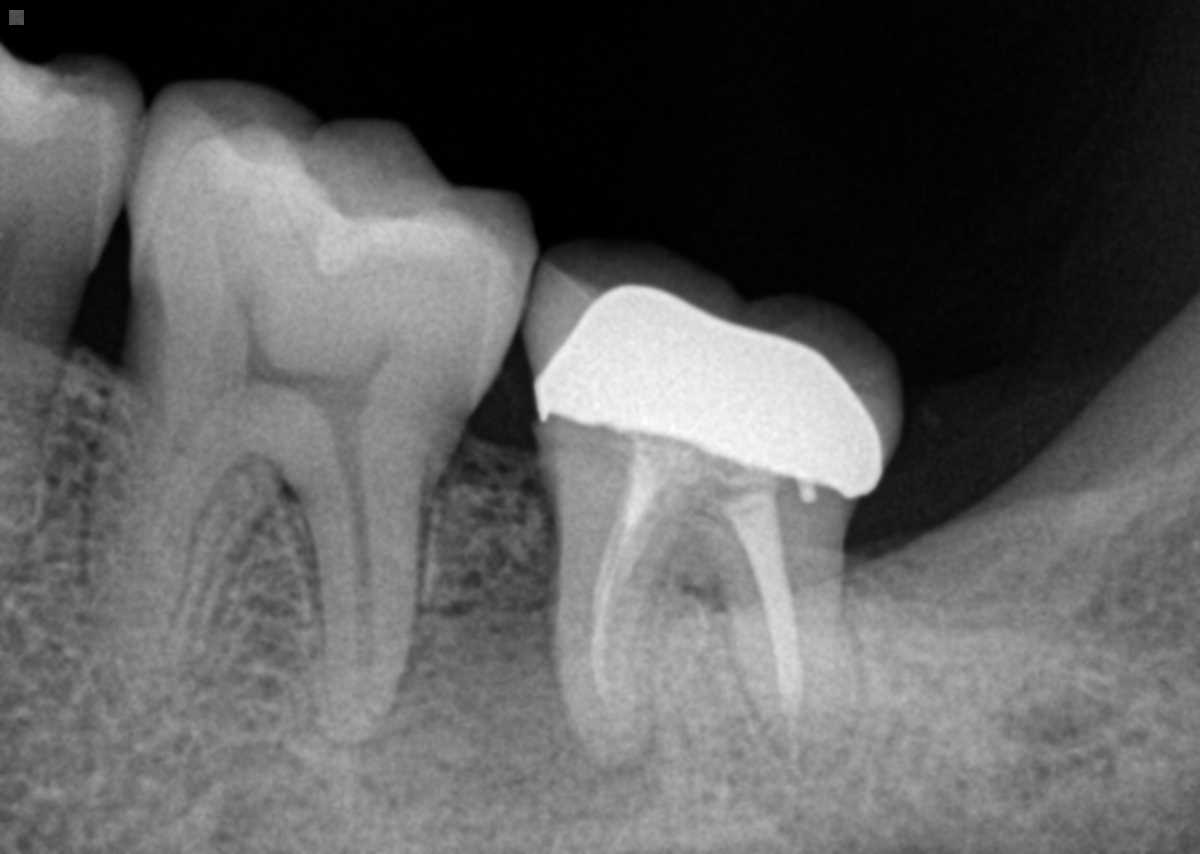Apical Lesion: (400, 535, 671, 825)
Distal Canal: (327, 417, 373, 704)
Distal Root: (281, 409, 461, 731), (707, 542, 863, 775)
Main Root: (0, 357, 58, 605)
Mesial Canal: (160, 408, 209, 512)
Mesial Root: (81, 377, 275, 716), (550, 464, 688, 766)
Root Canal Filling: (726, 490, 806, 770), (590, 452, 672, 721)
decay: (117, 247, 168, 399)
